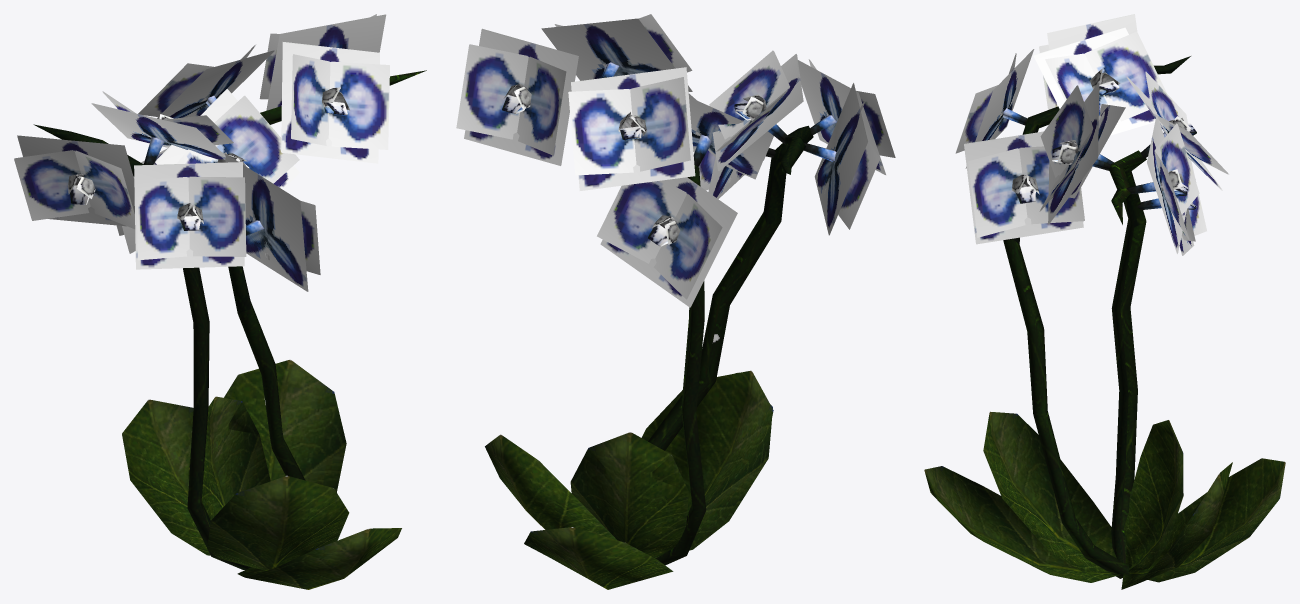
Rendered from blue_orchid.dae.
The picture shows the model from 3 angles, left to right: view 1: azimuth 30°, elevation 25°; view 2: azimuth 150°, elevation 25°; view 3: azimuth 270°, elevation 25°; orthographic projection. The views are drawn at different scales.
Visible parts, largest first — view 1: orchid_mesh; view 2: orchid_mesh; view 3: orchid_mesh.
Boxes of the visible parts, x1,y1,x2,y2 form: orchid_mesh: (14,14,426,589); orchid_mesh: (456,14,895,589); orchid_mesh: (924,14,1285,589).
Bounding box in the file's own units: 0.8233 × 1.02 × 0.6671.
Materials: 1 (1 with a texture image).
